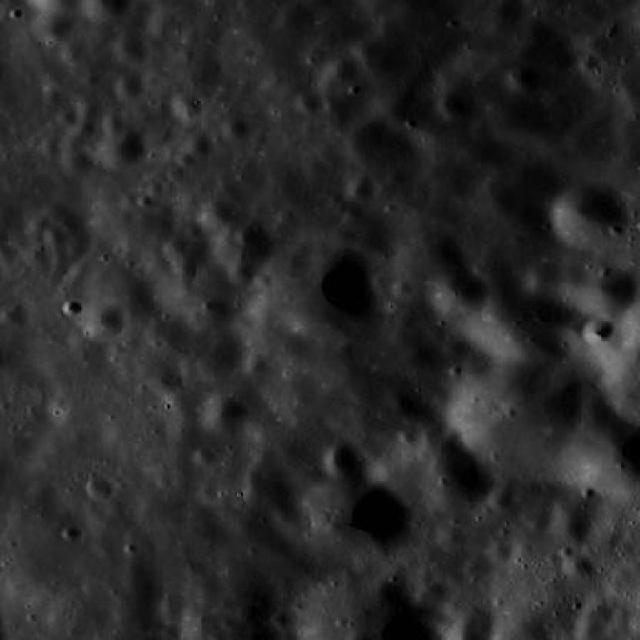crater: (448, 355, 584, 477), (303, 467, 419, 570), (273, 245, 382, 344), (384, 417, 492, 515), (469, 281, 568, 370), (471, 157, 551, 230), (387, 227, 467, 300), (550, 182, 630, 253), (157, 253, 228, 318), (0, 370, 55, 453), (571, 258, 637, 318), (213, 215, 275, 272), (428, 267, 486, 318), (198, 389, 256, 440), (346, 117, 402, 168), (490, 93, 546, 144), (192, 329, 246, 380), (317, 2, 372, 52), (570, 115, 622, 163), (242, 464, 290, 508), (97, 122, 145, 166), (547, 501, 595, 544), (187, 290, 235, 332), (178, 52, 222, 94), (82, 302, 126, 342), (31, 5, 71, 42), (198, 197, 238, 234), (526, 259, 566, 296), (440, 84, 478, 120), (322, 442, 360, 478), (164, 411, 202, 446), (147, 360, 184, 394), (120, 560, 154, 592), (112, 33, 146, 64), (247, 293, 281, 324), (508, 66, 542, 96), (276, 506, 310, 536), (139, 246, 172, 274), (184, 129, 216, 157), (584, 597, 616, 625), (347, 174, 378, 202), (279, 3, 310, 31), (579, 316, 610, 344), (157, 595, 188, 623), (172, 92, 202, 120), (62, 149, 92, 177), (148, 11, 178, 38), (144, 125, 172, 152), (114, 76, 143, 102), (564, 556, 593, 582), (404, 342, 433, 368), (226, 258, 254, 284), (436, 524, 464, 550), (573, 615, 602, 640), (56, 35, 84, 60), (223, 115, 251, 140), (186, 502, 214, 527), (423, 578, 449, 604), (491, 0, 520, 22), (241, 352, 267, 376), (488, 488, 514, 512), (487, 538, 513, 562), (3, 304, 29, 327), (330, 56, 356, 79), (162, 236, 187, 259), (22, 246, 47, 269), (70, 118, 96, 140), (86, 476, 112, 498), (172, 258, 197, 280), (294, 91, 320, 112), (304, 44, 328, 66), (286, 238, 308, 259), (73, 97, 96, 117), (100, 112, 122, 132), (29, 216, 51, 236), (56, 108, 78, 127), (177, 146, 197, 166), (120, 190, 140, 210), (192, 448, 214, 466), (0, 244, 17, 267), (62, 136, 82, 155), (234, 227, 254, 246), (42, 138, 62, 156), (44, 228, 64, 246), (580, 54, 600, 72), (179, 360, 198, 378), (62, 300, 81, 317), (372, 272, 392, 288), (42, 88, 61, 104), (253, 270, 270, 286)
